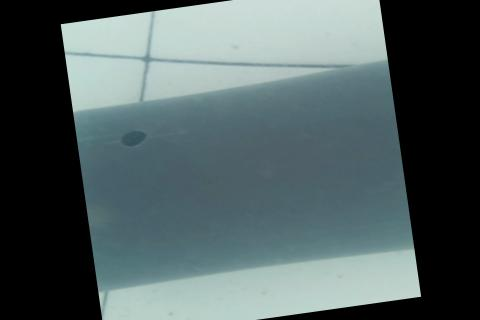kebocoran: (116, 126, 148, 150)
